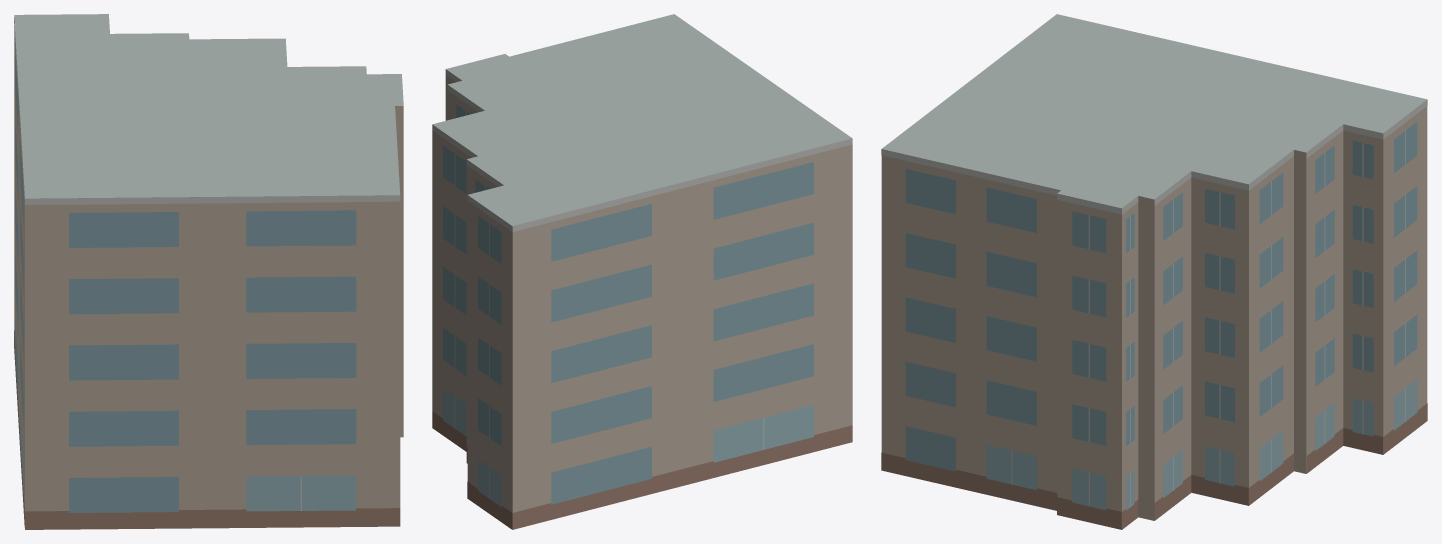
File: survey-upis-32999721.glb
The picture shows the model from 3 angles, left to right: view 1: azimuth 30°, elevation 25°; view 2: azimuth 150°, elevation 25°; view 3: azimuth 270°, elevation 25°; orthographic projection. The views are drawn at different scales.
Visible parts, largest first — view 1: survey-upis-32999721.tmp; view 2: survey-upis-32999721.tmp; view 3: survey-upis-32999721.tmp.
Part boxes in pixels (x1,y1,x2,y2): survey-upis-32999721.tmp: (14,14,403,529); survey-upis-32999721.tmp: (432,14,852,529); survey-upis-32999721.tmp: (881,14,1427,529).
Size of the model in its own units: 16.22 by 12.5 by 19.25.
